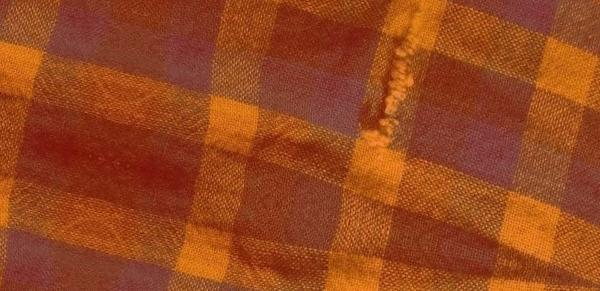knot: (357, 24, 422, 152)
